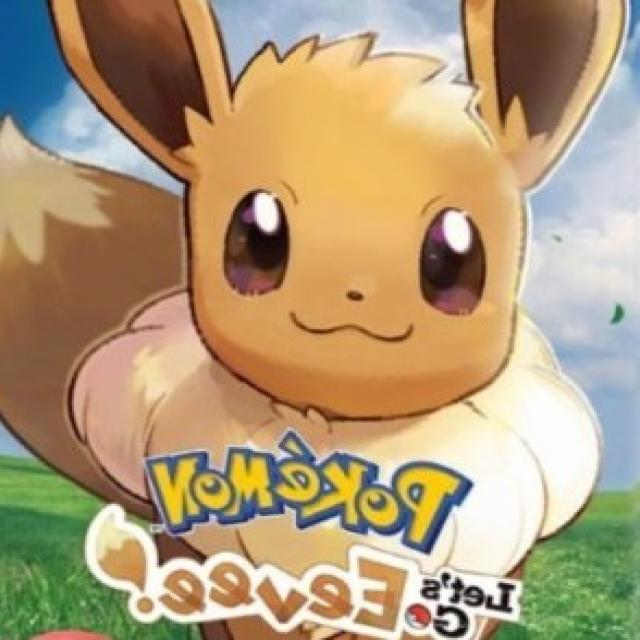Eevee: (128, 7, 566, 634)
